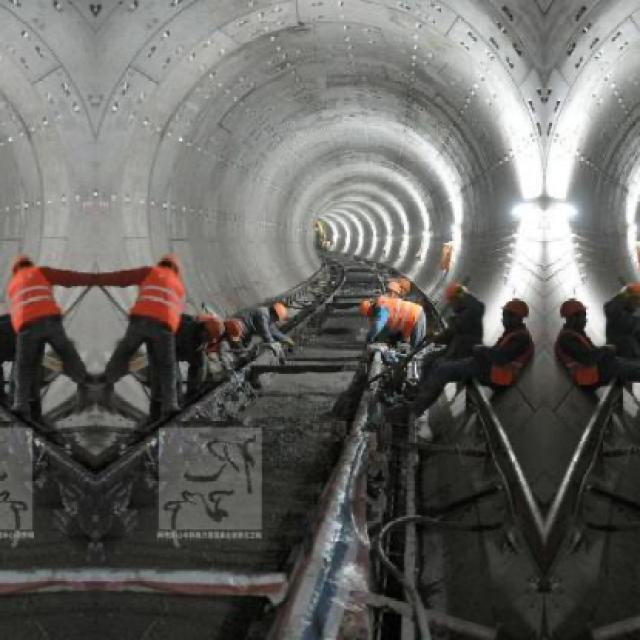helmet: (498, 292, 528, 334), (560, 292, 589, 334), (151, 251, 182, 280), (7, 251, 38, 280), (194, 317, 227, 343), (441, 278, 466, 311), (218, 317, 245, 341), (621, 277, 640, 311), (265, 302, 293, 324), (359, 298, 378, 317), (382, 282, 401, 300), (398, 275, 413, 297)
